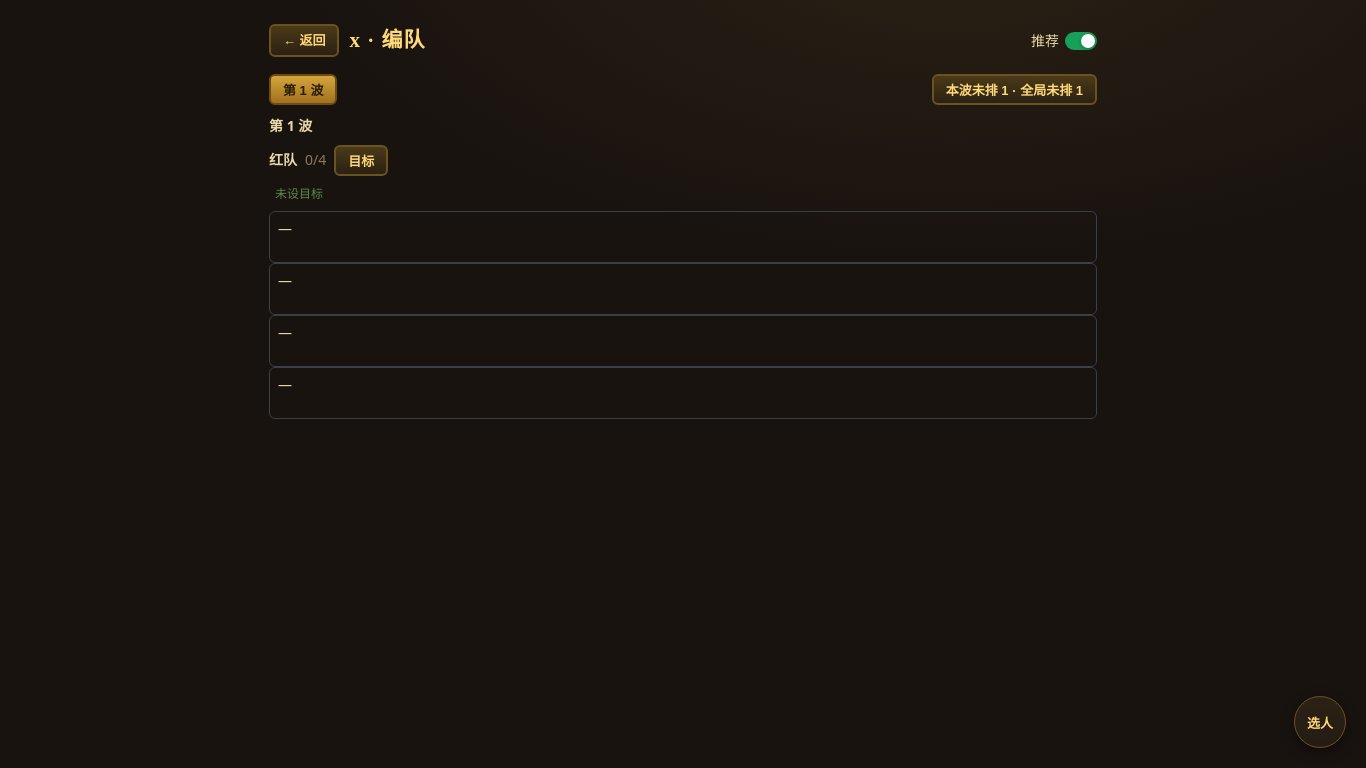
Test case: RosterView › 未排状态条：本波/全局计数与展开列表
The width and height of the screenshot is (1366, 768).
Click the button with test id "unplaced-toggle": (1014,89) x1=932 y1=74 x2=1097 y2=105
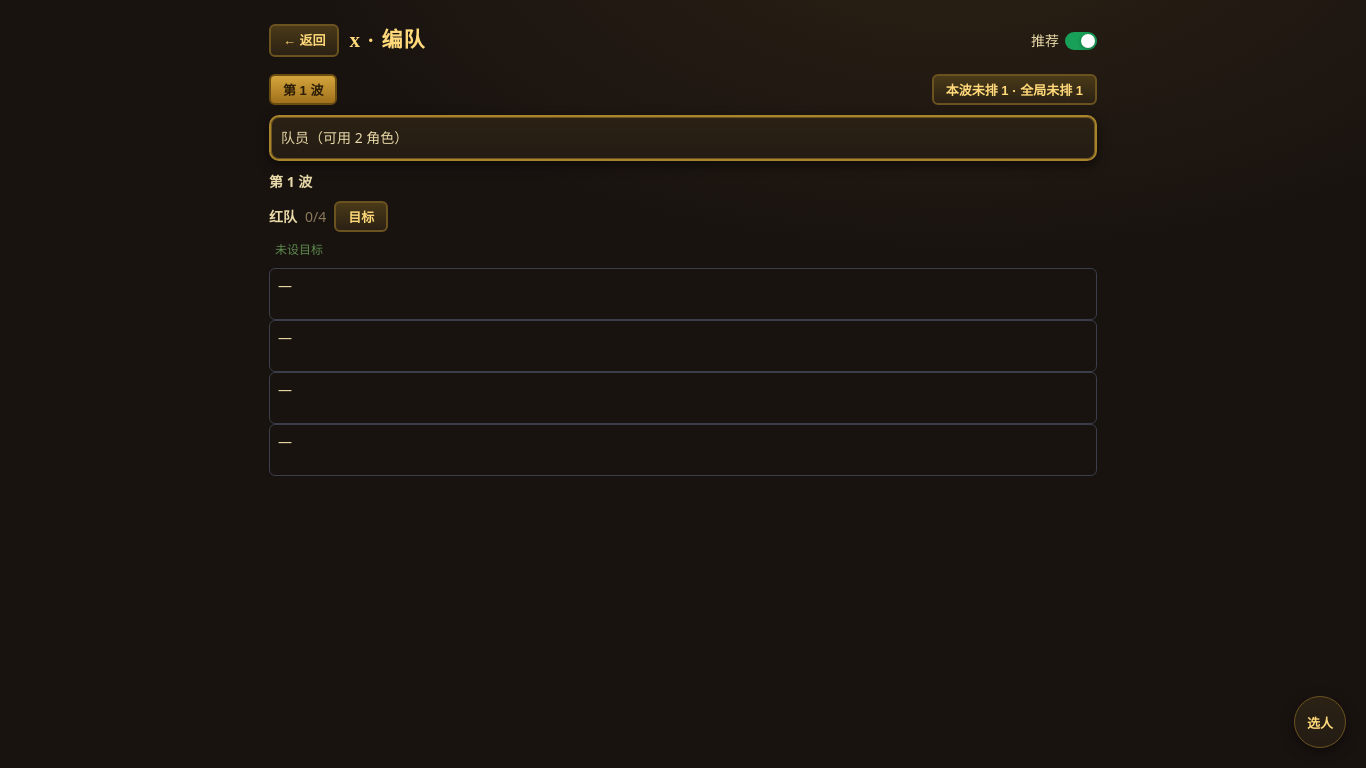
Result: the element with test id "unplaced-list" shows "队员" at x1=281 y1=128 x2=408 y2=147
